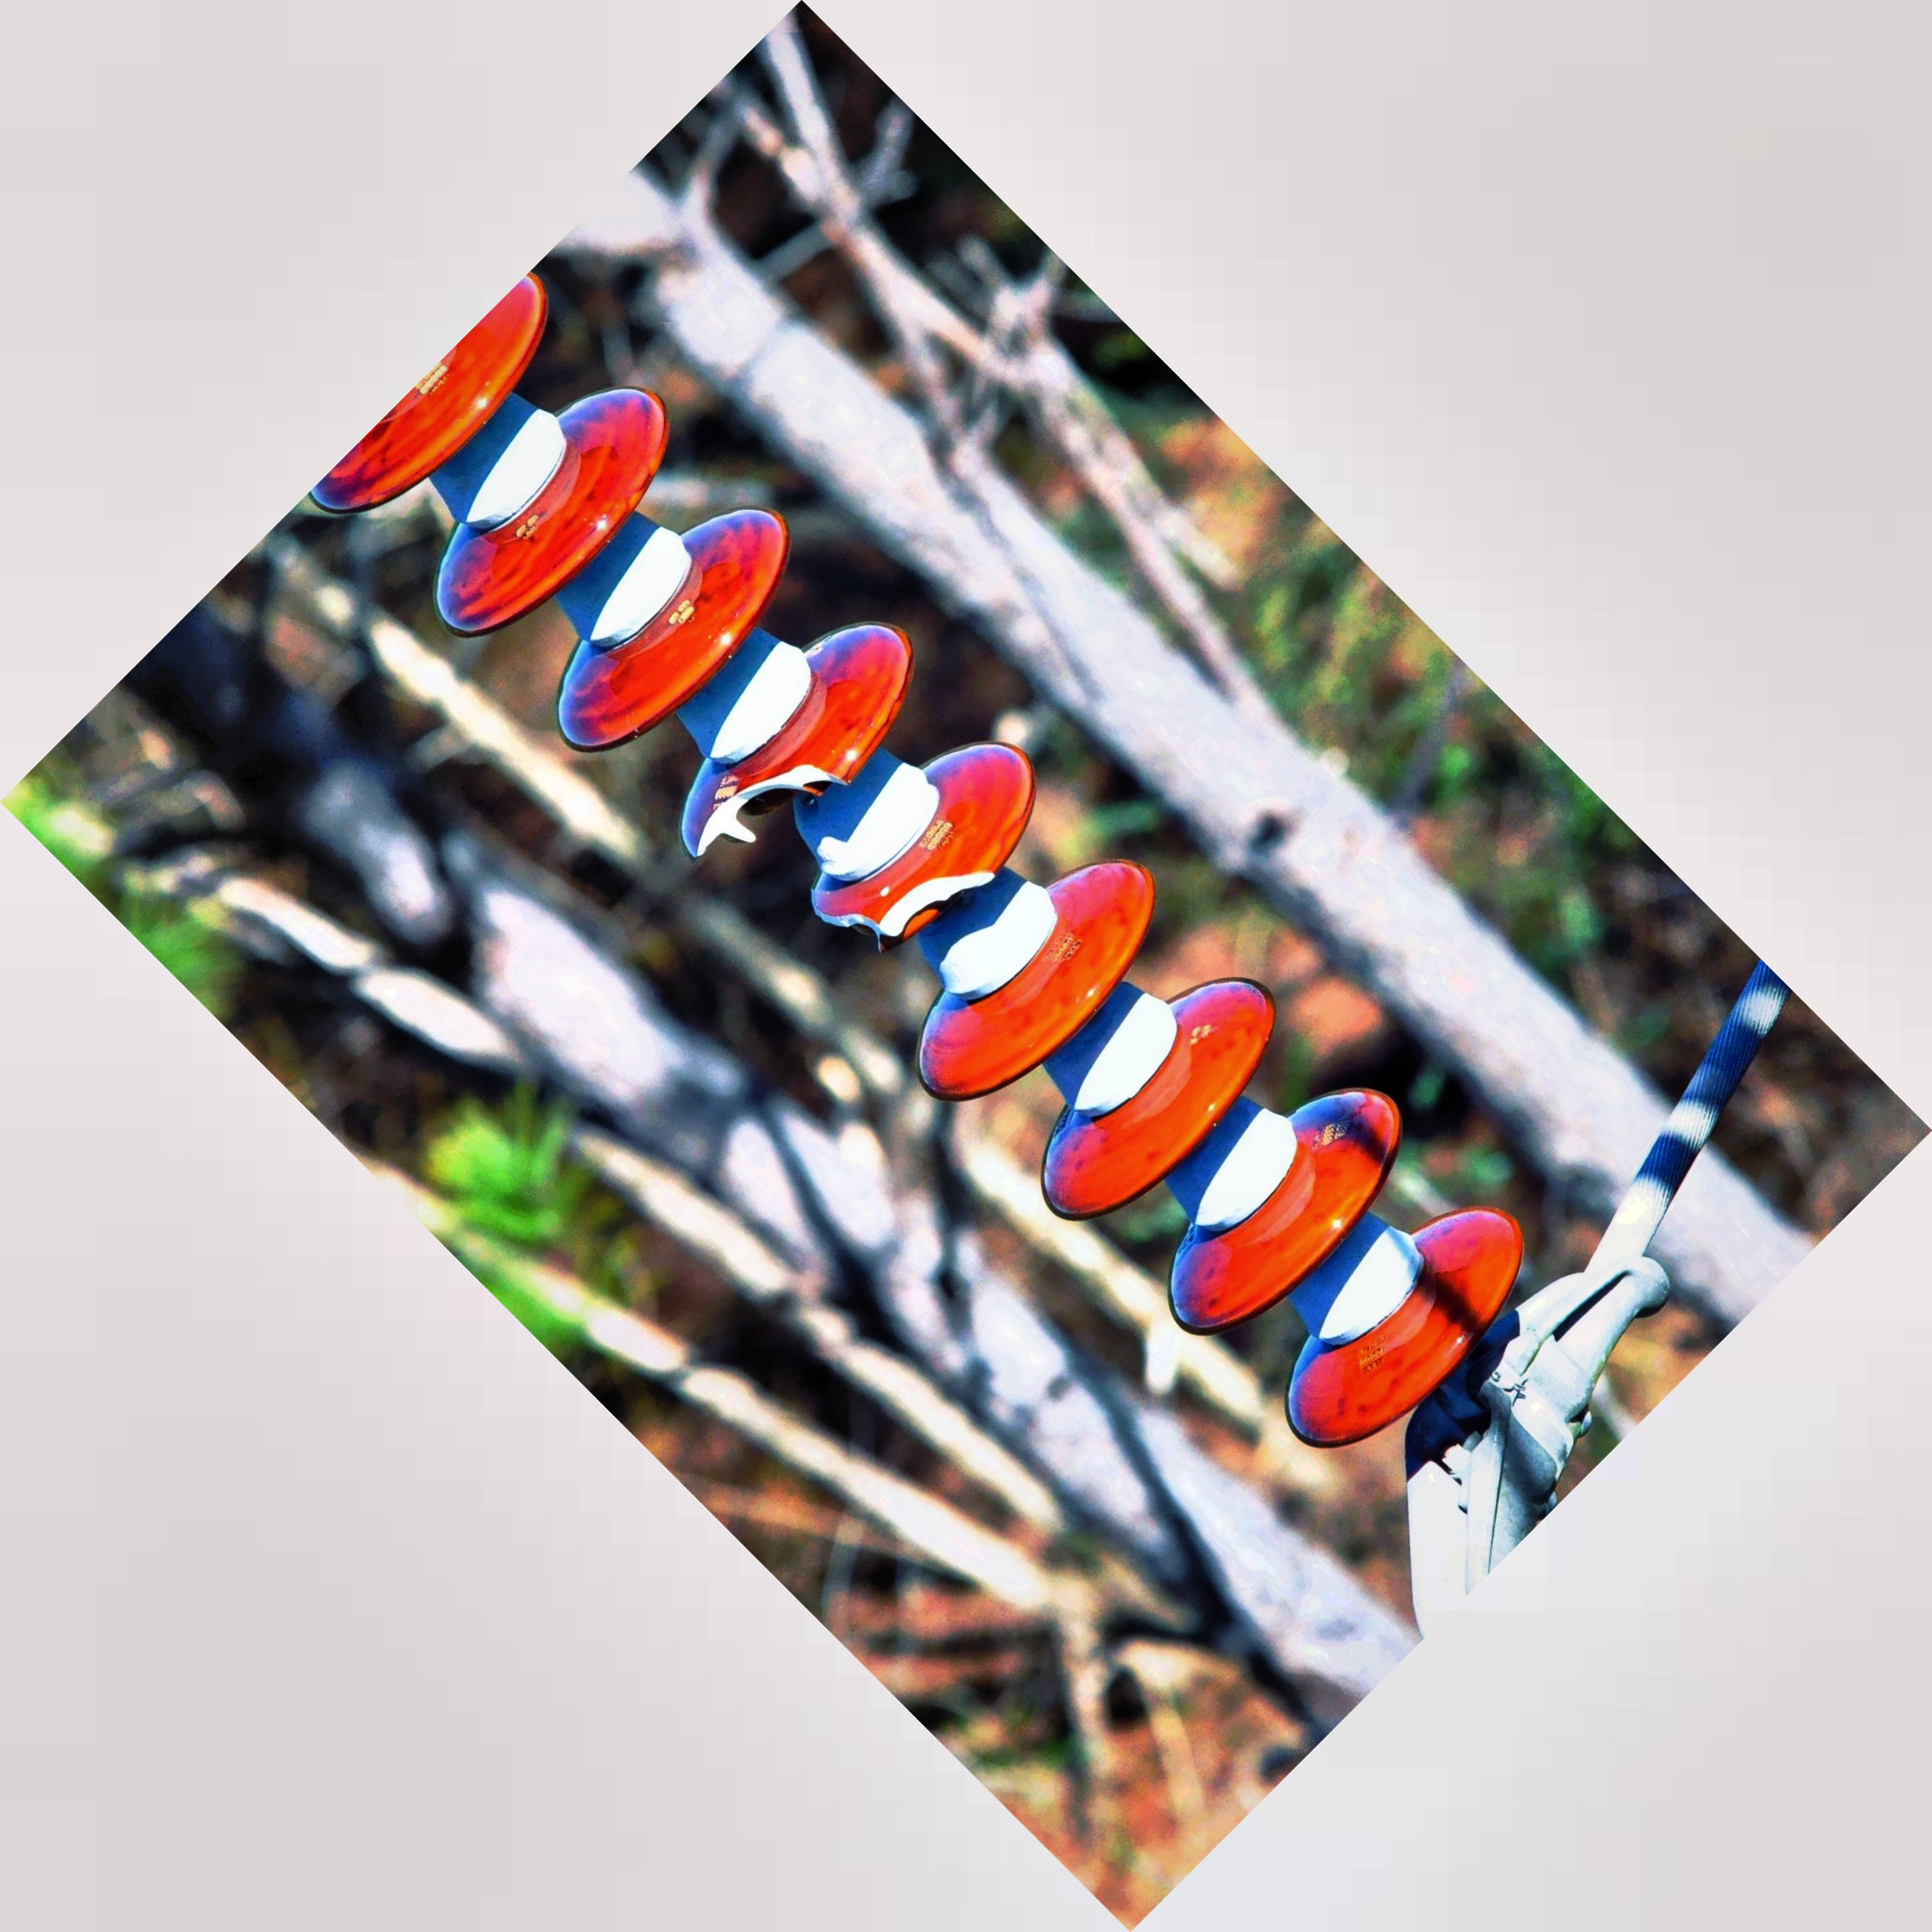insulator breakage: (663, 616, 1044, 947)
